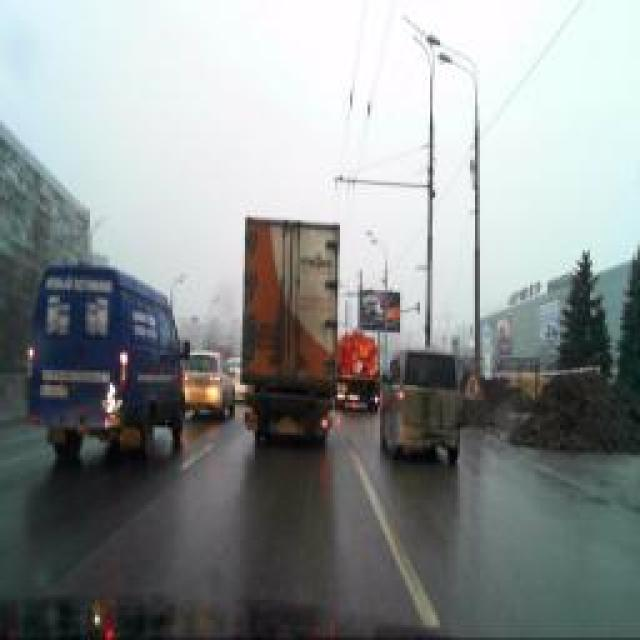sign: (460, 366, 482, 406)
